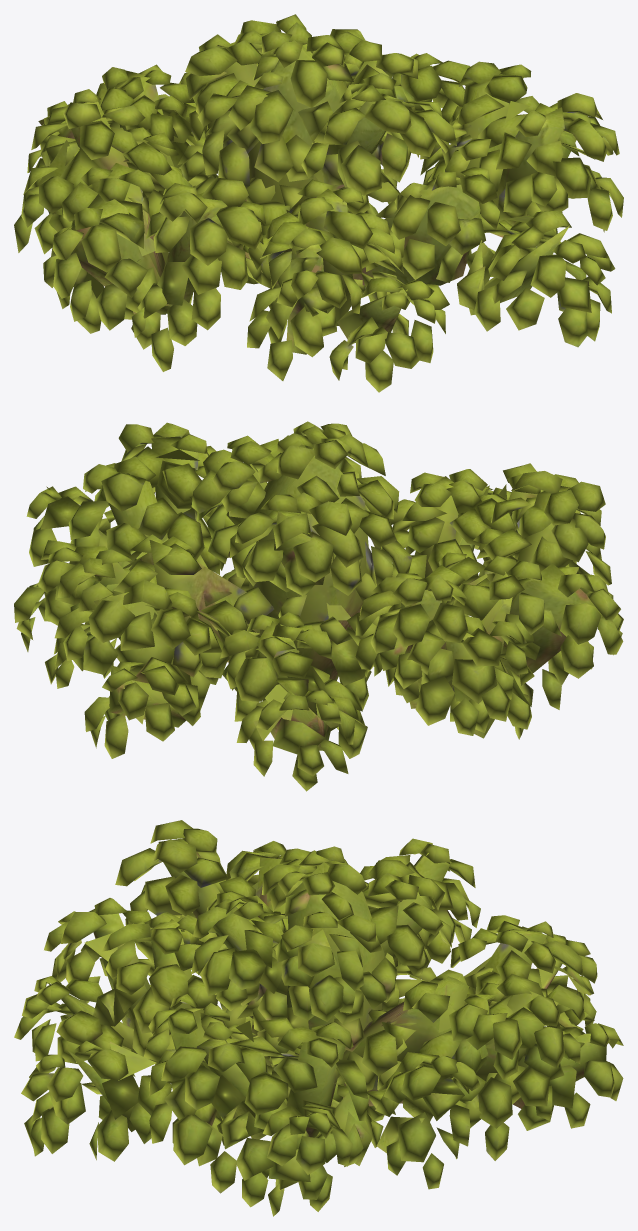
The model's file is bank-shrub.glb.
The picture shows the model from 3 angles, top to bottom: view 1: azimuth 30°, elevation 25°; view 2: azimuth 150°, elevation 25°; view 3: azimuth 270°, elevation 25°; orthographic projection. The views are drawn at different scales.
Parts seen in each view (by area): view 1: bank-shrub_LOD0; view 2: bank-shrub_LOD0; view 3: bank-shrub_LOD0.
Part boxes in pixels (box(x1,y1,x2,y2)): bank-shrub_LOD0: box(14, 14, 623, 392); bank-shrub_LOD0: box(14, 421, 623, 791); bank-shrub_LOD0: box(14, 820, 623, 1216).
Size of what is drawn, in the model's own units: 1 by 0.4519 by 0.9771.
1 material, 1 textured.
